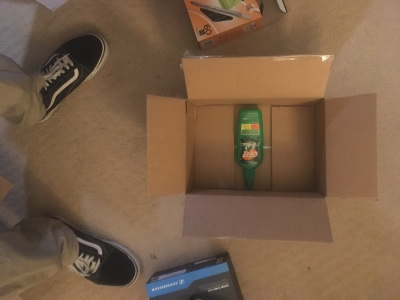innerbox: (187, 98, 327, 199)
outerbox: (146, 56, 377, 243)
product: (234, 109, 262, 187)
